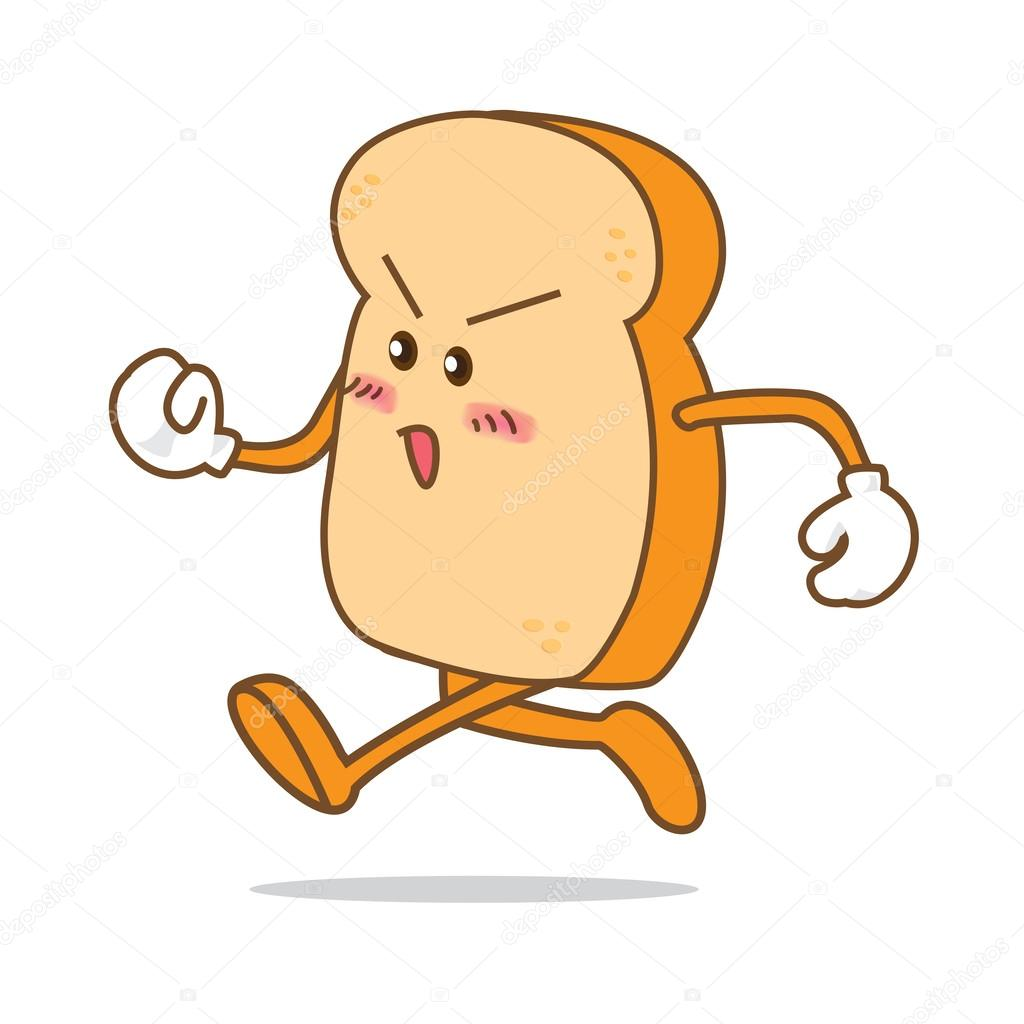slice of bread: (352, 142, 675, 683)
